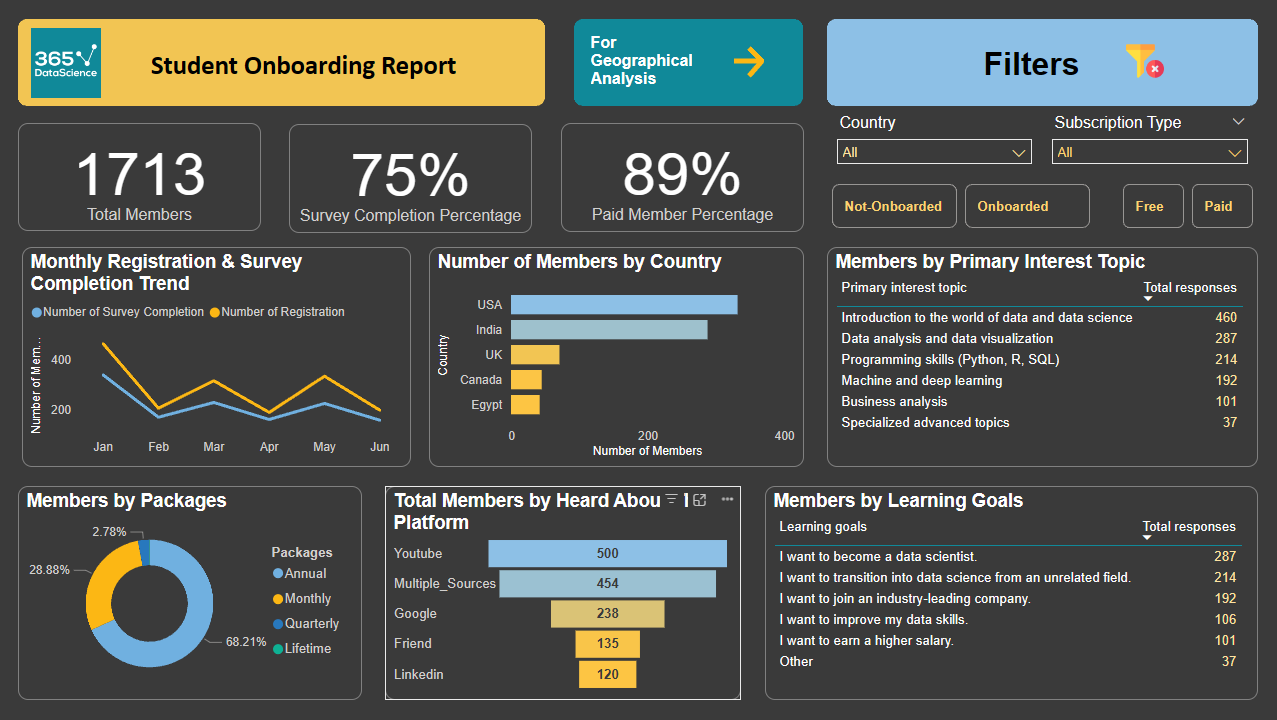

This screenshot's page, from the dashboard's own definition file:
{"tool":"powerbi","page":{"name":"Main","canvas":[1280,720],"ordinal":0},"visuals":[{"type":"donutChart","fields":{"Category":["data_visualization.subscription_type"],"Y":["CountNonNull(data_visualization.subscription_type)"]},"box":[20,485.7,344.3,214.3],"z":0},{"type":"lineChart","title":"Monthly Registration & Survey Completion Trend","fields":{"Category":["Calendar.Month_short_name"],"Y":["Calendar.count_survey_completed","Calendar.count_of_registration"]},"box":[24.5,246.8,388.3,220.2],"z":1000},{"type":"card","fields":{"Values":["Calendar.onboarding_perc"]},"box":[290.9,124.1,242.9,108.3],"z":2000,"group":"g1"},{"type":"tableEx","title":"Members by Primary Interest Topic","fields":{"Values":["data_visualization.onboarding_learn_label","CountNonNull(data_visualization.onboarding_learn_label)"]},"box":[828.6,247.1,431.4,220],"z":2000},{"type":"card","fields":{"Values":["CountNonNull(data_visualization.user_id)"]},"box":[20,123.1,242.9,108.3],"z":3000,"group":"g1"},{"type":"tableEx","title":"Members by Learning Goals","fields":{"Values":["data_visualization.onboarding_goals_label","CountNonNull(data_visualization.onboarding_goals_label)"]},"box":[767.1,485.7,492.9,214.3],"z":3000},{"type":"barChart","fields":{"Category":["data_visualization.onboarding_country"],"Y":["CountNonNull(data_visualization.user_id)"]},"box":[431.4,246.6,374.3,220],"z":4000},{"type":"funnel","title":"Total Members by Heard About The Platform","fields":{"Category":["data_visualization.onboarding_heard_from_label"],"Y":["CountNonNull(data_visualization.onboarding_heard_from_label)"]},"box":[387.1,485.7,355.7,214.3],"z":5000},{"type":"group","id":"g1","title":"Group 1","box":[20,122.9,785.7,110],"z":6000},{"type":"shape","box":[828.6,18.6,431.4,87.1],"z":7000,"group":"g4"},{"type":"shape","box":[20,19,527,87],"z":7000,"group":"g2"},{"type":"group","id":"g2","title":"Group 3","box":[20,19,527,87],"z":8000},{"type":"textbox","box":[981,41,127,47],"z":8000,"group":"g4"},{"type":"card","fields":{"Values":["Calendar.paid_perc"]},"box":[562.8,122.9,242.9,108.8],"z":8000,"group":"g1"},{"type":"advancedSlicerVisual","fields":{"Values":["data_visualization.user_paid"]},"box":[1120,179,140,54],"z":8000},{"type":"group","id":"g3","title":"Group 4","box":[576,19,229,87],"z":9000},{"type":"image","box":[20,22.9,97.1,80],"z":9000,"group":"g2"},{"type":"image","box":[1122.4,35.1,47.9,50],"z":9000,"group":"g4"},{"type":"group","id":"g4","title":"Group 5","box":[828.6,18.6,431.4,87.1],"z":10000},{"type":"textbox","box":[141,44,330,42],"z":10000,"group":"g2"},{"type":"advancedSlicerVisual","title":"Onboarded","fields":{"Values":["data_visualization.onboarded"]},"box":[829,179,268,54],"z":11000},{"type":"slicer","fields":{"Values":["data_visualization.subscription_type"]},"box":[1044.3,108.6,215.7,62.9],"z":12000},{"type":"shape","box":[576,19,229,87],"z":16000,"group":"g3"},{"type":"textbox","box":[588,29,142,67],"z":17000,"group":"g3"},{"type":"actionButton","box":[730,42,62,40],"z":18000,"group":"g3"},{"type":"slicer","fields":{"Values":["data_visualization.onboarding_country"]},"box":[829,109,215,58],"z":19000}]}

Visuals, with their boxes in screenshot pixels (x1, y1, x2, y2), scaled from the page's 1280x720 canvas onto the 1277x720 screenshot:
donutChart - data_visualization.subscription_type x CountNonNull(data_visualization.subscription_type): Rect(20, 486, 363, 700)
"Monthly Registration & Survey Completion Trend" lineChart: Rect(24, 247, 412, 467)
card - Calendar.onboarding_perc: Rect(290, 124, 533, 232)
"Members by Primary Interest Topic" tableEx: Rect(827, 247, 1257, 467)
card - CountNonNull(data_visualization.user_id): Rect(20, 123, 262, 231)
"Members by Learning Goals" tableEx: Rect(765, 486, 1257, 700)
barChart - data_visualization.onboarding_country x CountNonNull(data_visualization.user_id): Rect(430, 247, 804, 467)
"Total Members by Heard About The Platform" funnel: Rect(386, 486, 741, 700)
"Group 1" group: Rect(20, 123, 804, 233)
shape: Rect(827, 19, 1257, 106)
shape: Rect(20, 19, 546, 106)
"Group 3" group: Rect(20, 19, 546, 106)
textbox: Rect(979, 41, 1105, 88)
card - Calendar.paid_perc: Rect(561, 123, 804, 232)
advancedSlicerVisual - data_visualization.user_paid: Rect(1117, 179, 1257, 233)
"Group 4" group: Rect(575, 19, 803, 106)
image: Rect(20, 23, 117, 103)
image: Rect(1120, 35, 1168, 85)
"Group 5" group: Rect(827, 19, 1257, 106)
textbox: Rect(141, 44, 470, 86)
"Onboarded" advancedSlicerVisual: Rect(827, 179, 1094, 233)
slicer - data_visualization.subscription_type: Rect(1042, 109, 1257, 172)
shape: Rect(575, 19, 803, 106)
textbox: Rect(587, 29, 728, 96)
actionButton: Rect(728, 42, 790, 82)
slicer - data_visualization.onboarding_country: Rect(827, 109, 1042, 167)
